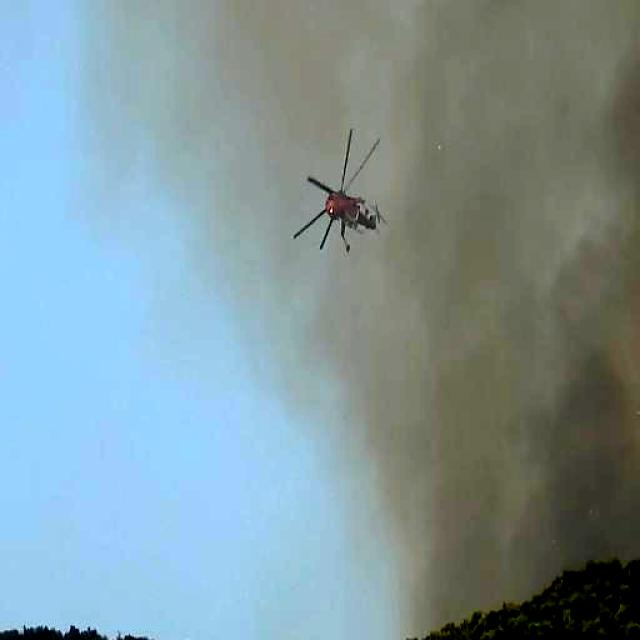drone: (290, 125, 388, 260)
